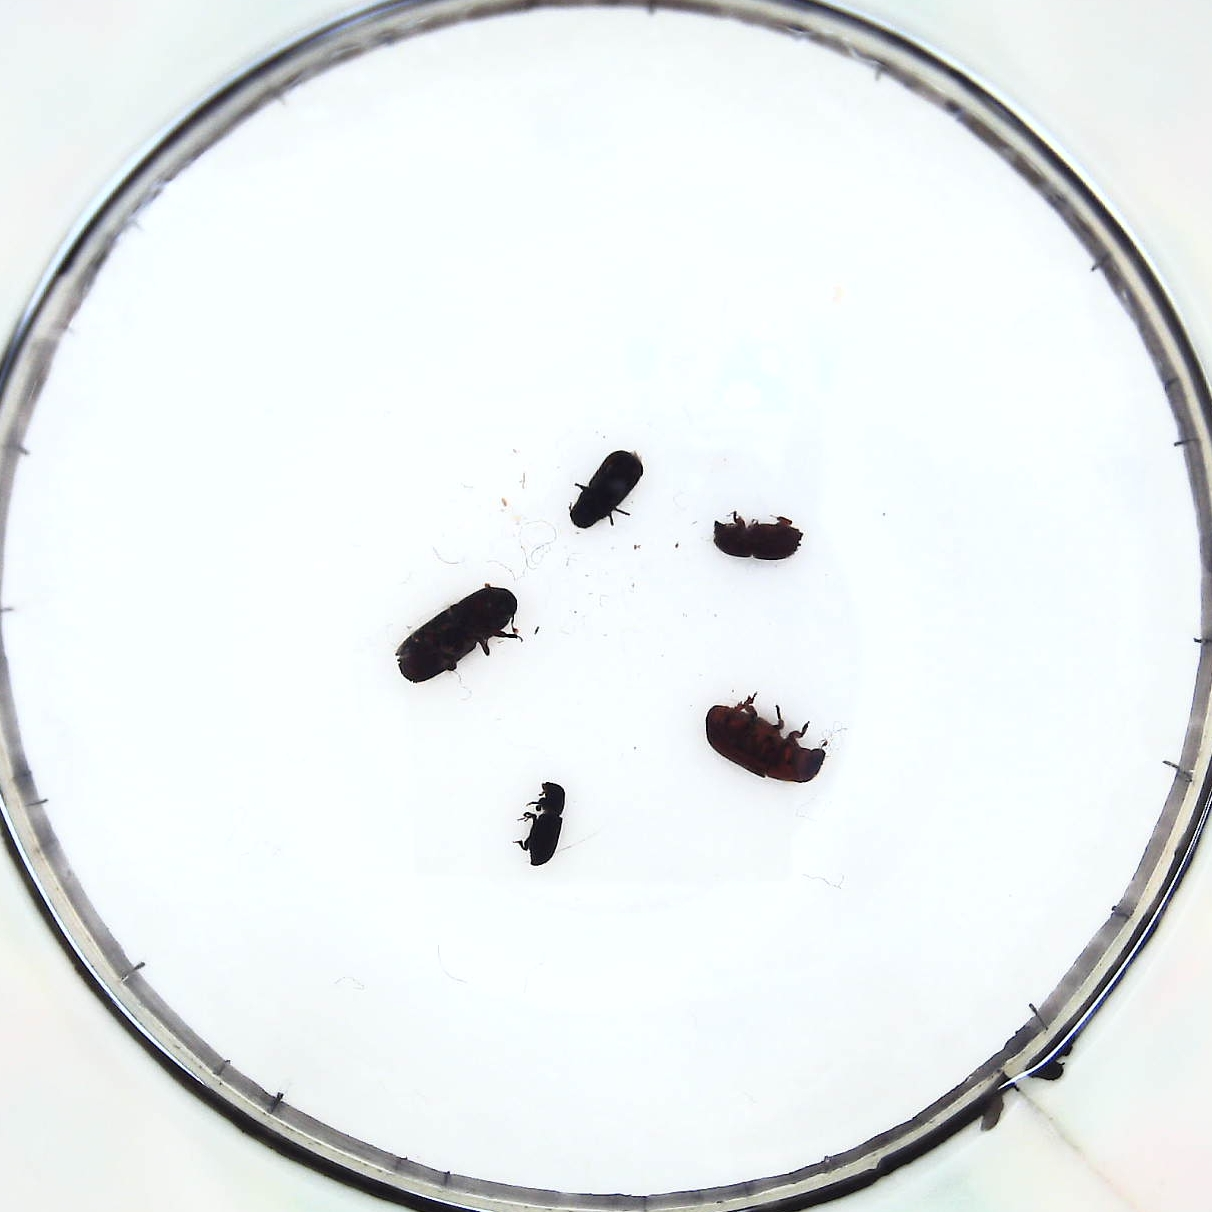Boerner: (400, 586, 519, 687)
Leconte: (706, 691, 828, 789)
Linnaeus: (709, 511, 806, 565)
armandi: (567, 444, 642, 531)
coleoptera: (524, 778, 567, 869)
